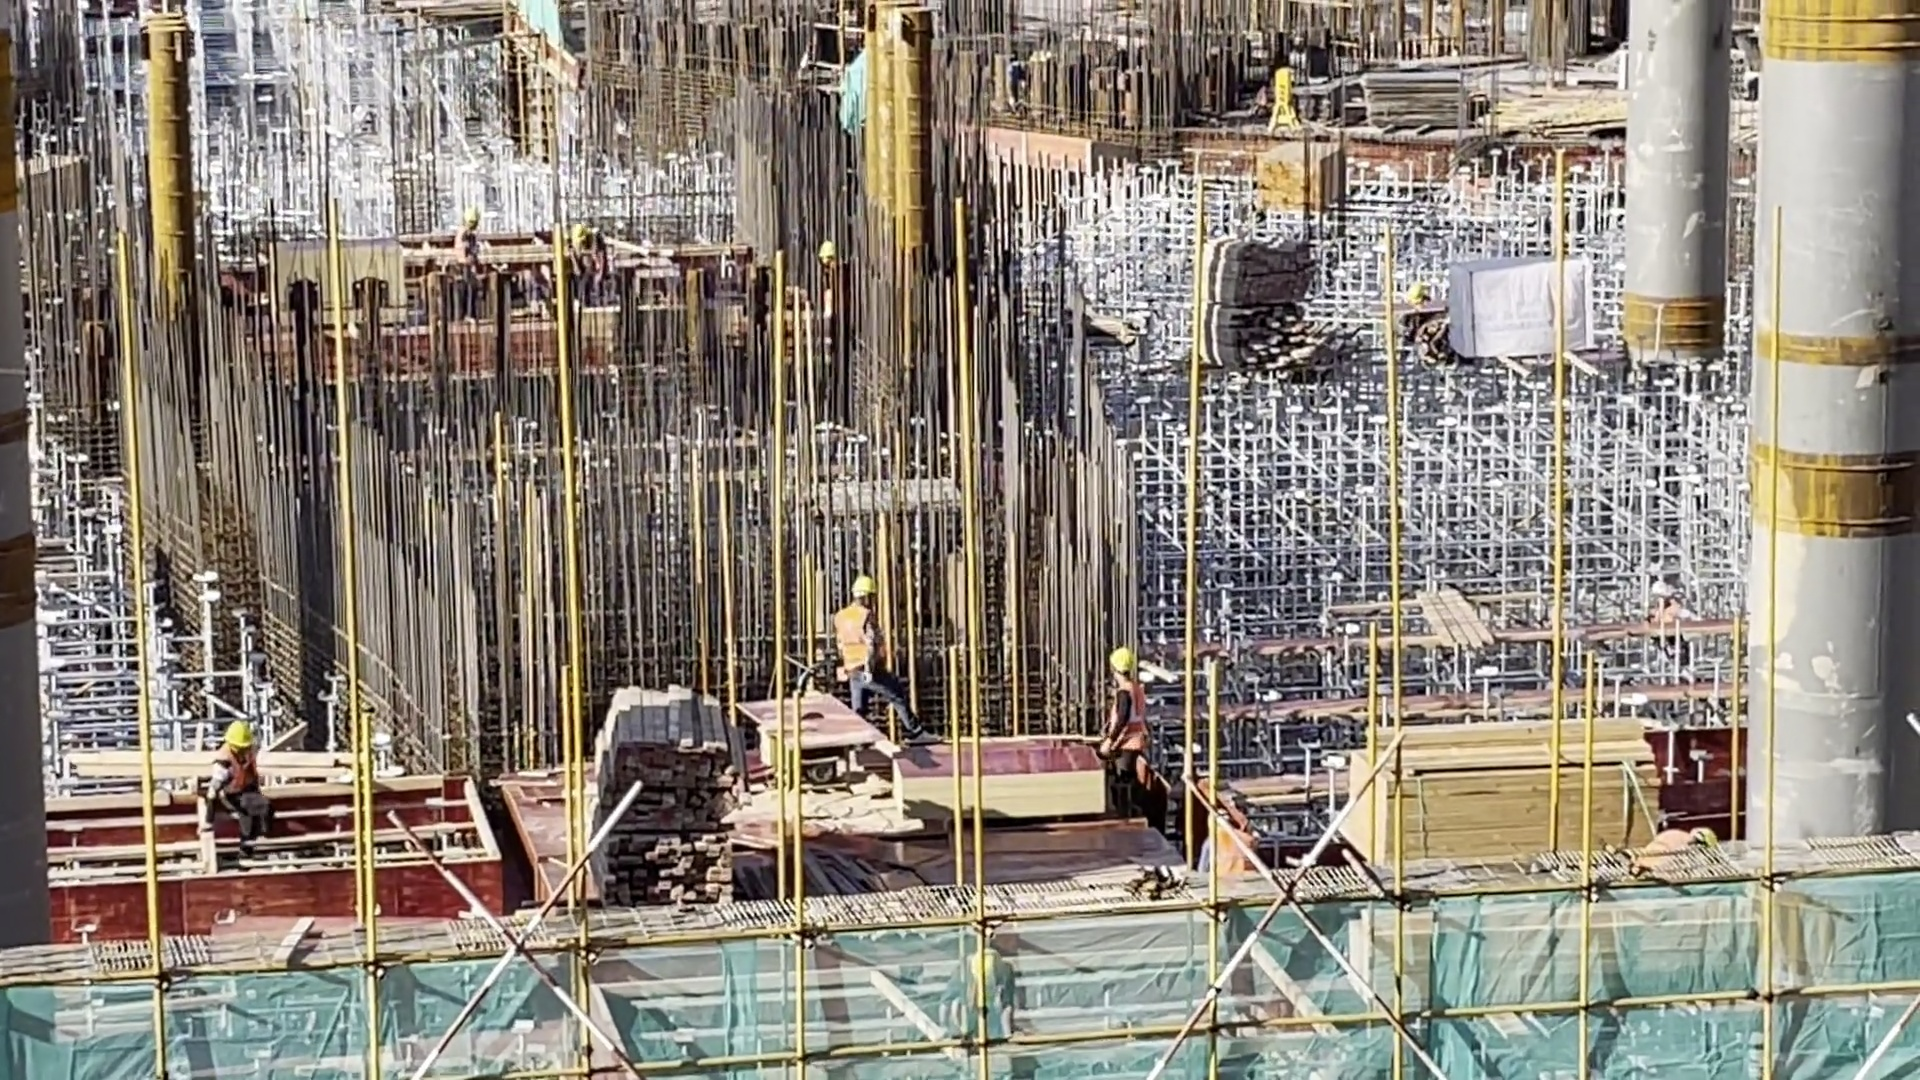board: (886, 737, 1110, 831)
ebox: (1255, 65, 1303, 137)
helmet: (219, 721, 256, 749), (1108, 645, 1136, 677), (850, 574, 877, 597), (814, 240, 837, 259), (568, 221, 586, 242), (463, 207, 482, 221)
person: (831, 575, 943, 746), (199, 719, 287, 844), (1104, 645, 1156, 829), (451, 208, 490, 320), (565, 220, 612, 277)
vest: (1107, 684, 1150, 754), (834, 605, 880, 669), (451, 230, 480, 266)
wood: (1343, 708, 1660, 863), (584, 675, 738, 915), (1245, 138, 1306, 223)
